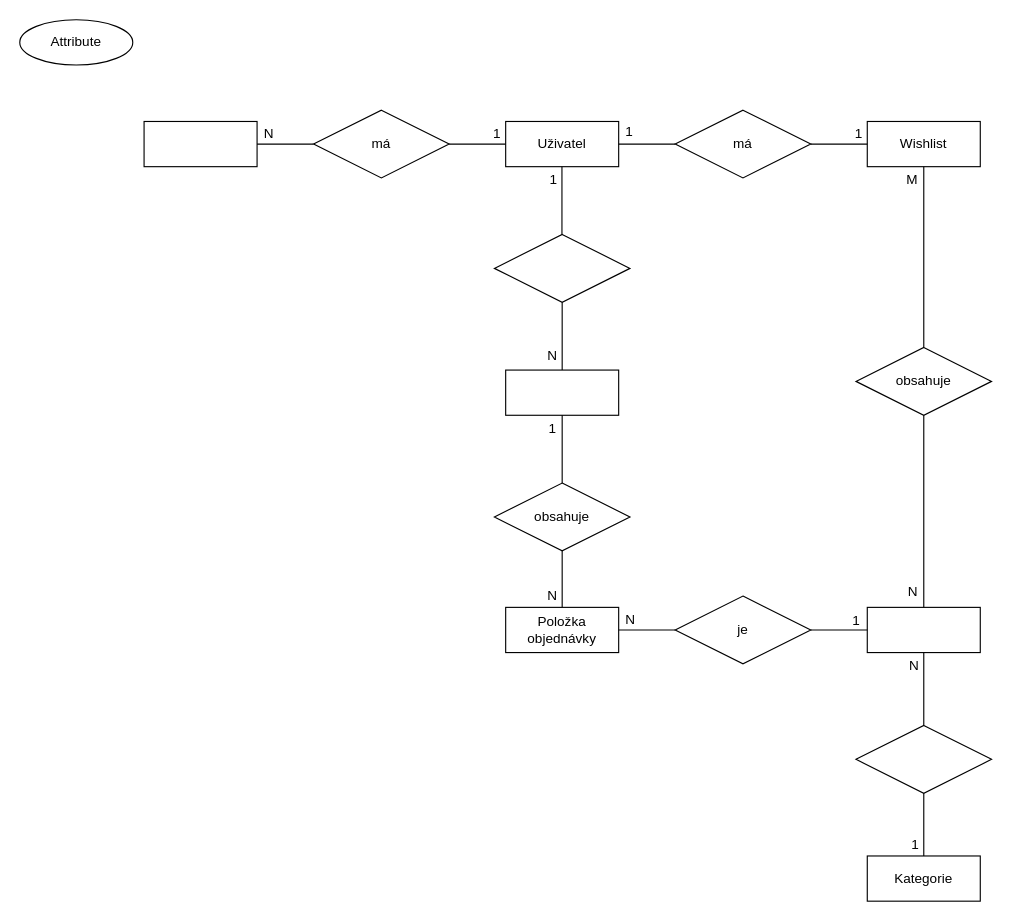
Image size: 1011x921. Some labels were removed from this diagram. Each missing label, with the box of its shape:
Objednávka: (505, 369, 619, 415)
Obnovovací token: (143, 120, 257, 167)
patří do: (855, 724, 992, 793)
Produkt: (866, 606, 980, 653)
Vytváří: (493, 233, 630, 302)
